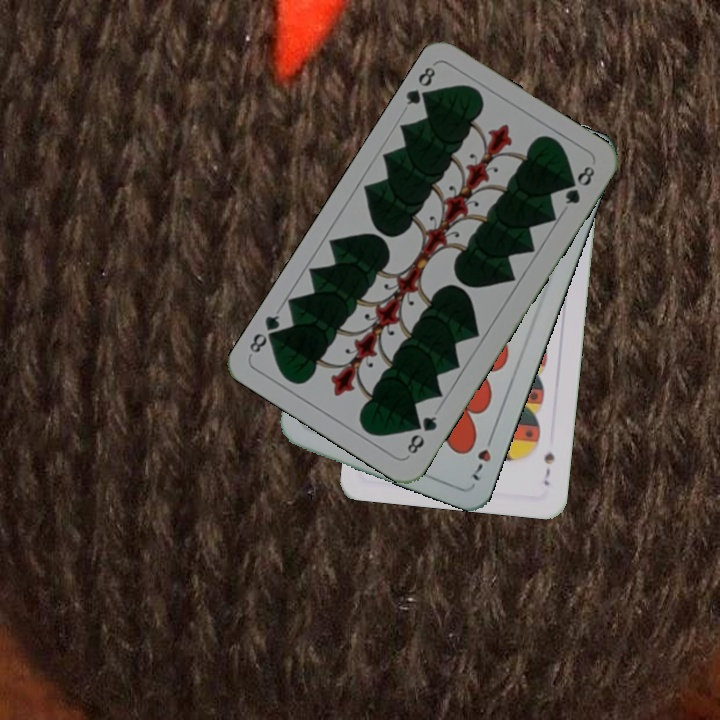G8: (402, 62, 438, 109), (403, 412, 440, 457)
H7: (468, 428, 497, 484)
S7: (539, 448, 557, 488)
